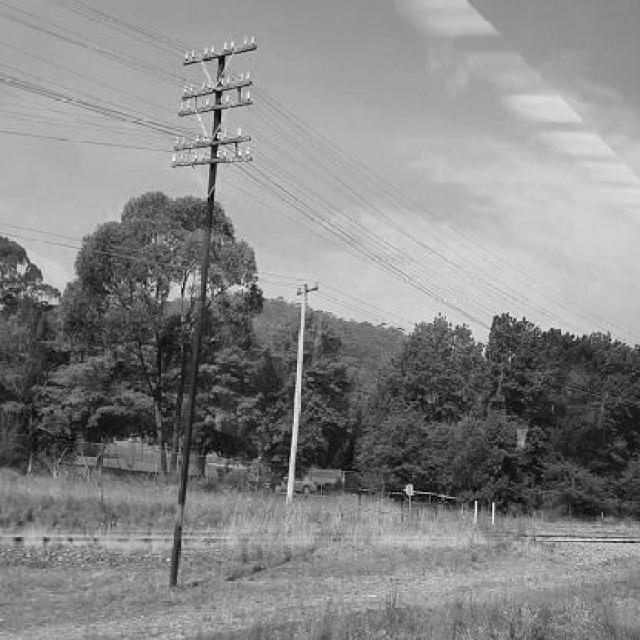Pole: (172, 39, 255, 587), (286, 284, 319, 502)
